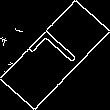L_SE: (25, 26, 85, 84)
